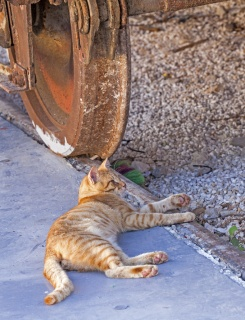Cat: (41, 157, 198, 306)
